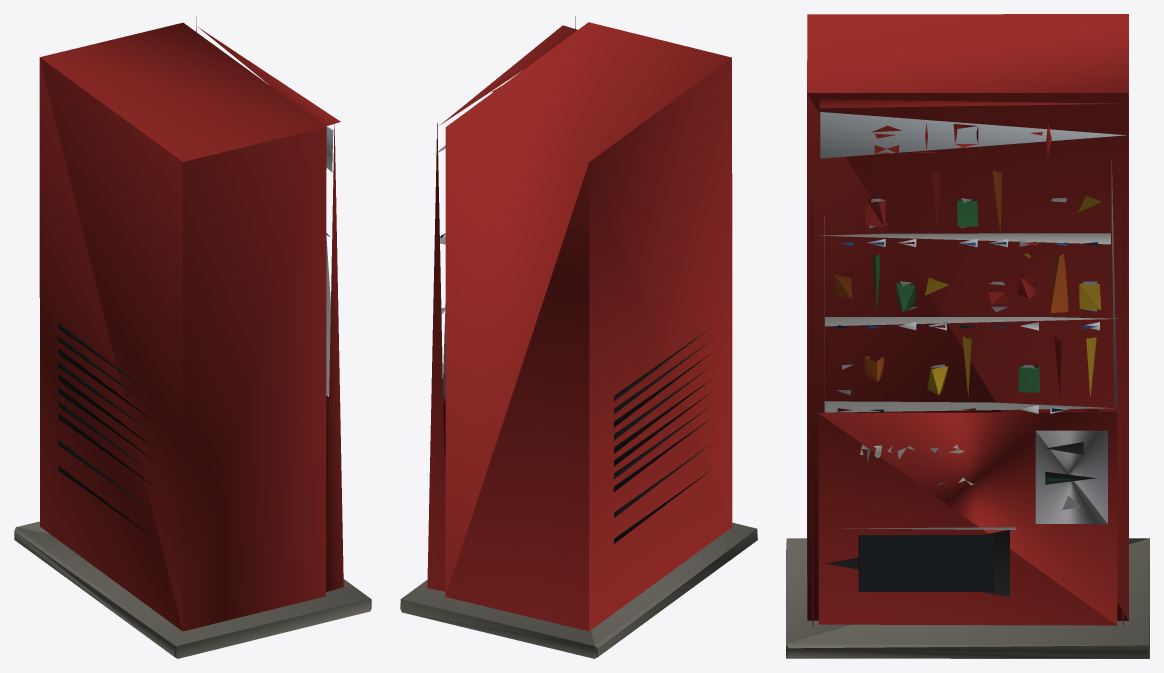
File: SM_VendingMachine.glb
The picture shows the model from 3 angles, left to right: view 1: azimuth 30°, elevation 25°; view 2: azimuth 150°, elevation 25°; view 3: azimuth 270°, elevation 25°; orthographic projection. The views are drawn at different scales.
Visible parts, largest first — view 1: SM_VendingMachine; view 2: SM_VendingMachine; view 3: SM_VendingMachine.
Boxes of the visible parts, x1,y1,x2,y2 form: SM_VendingMachine: [14, 16, 371, 658]; SM_VendingMachine: [400, 16, 757, 658]; SM_VendingMachine: [786, 14, 1149, 658].
Bounding box in the file's own units: 0.8 × 1.9 × 1.13.
